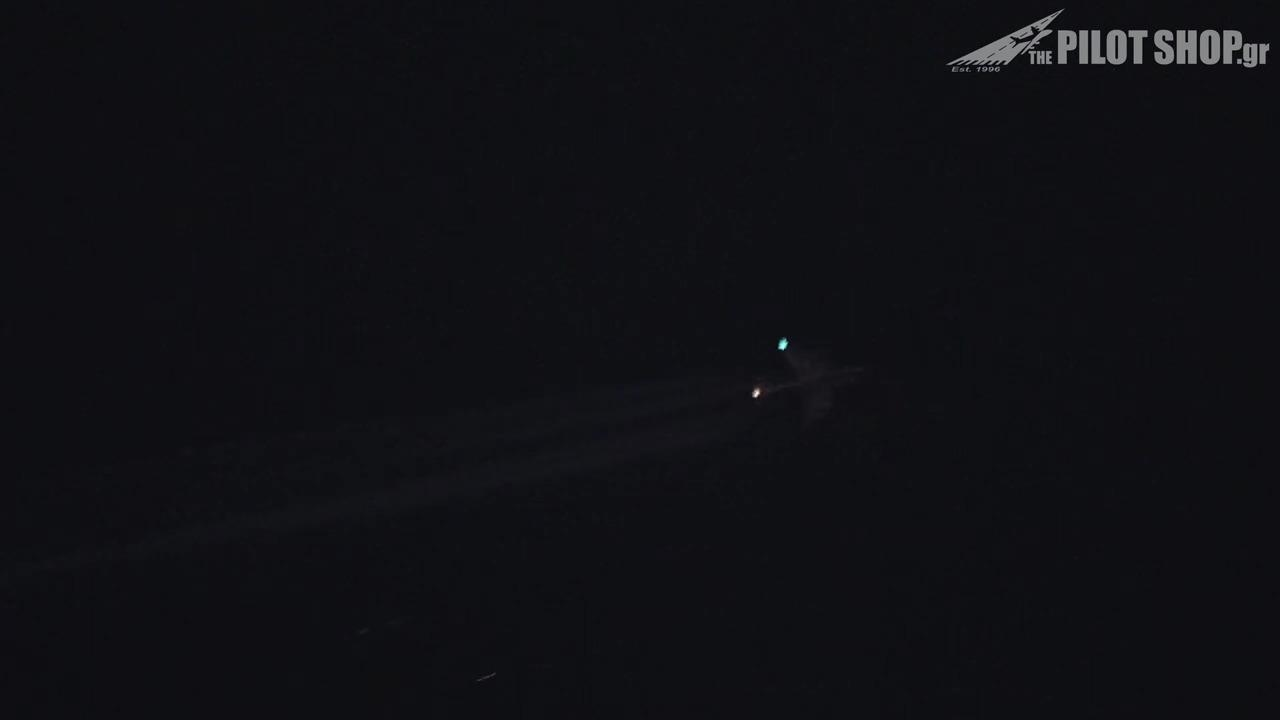Plane: (649, 320, 939, 444)
